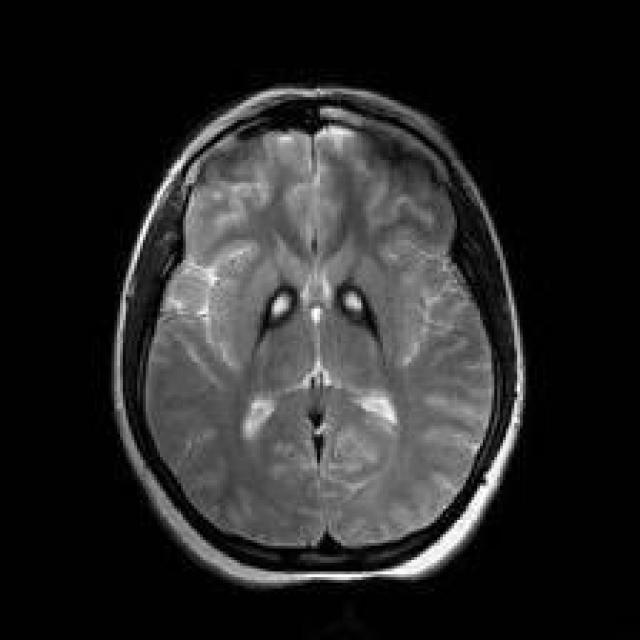no_tumor: (111, 84, 534, 600)
